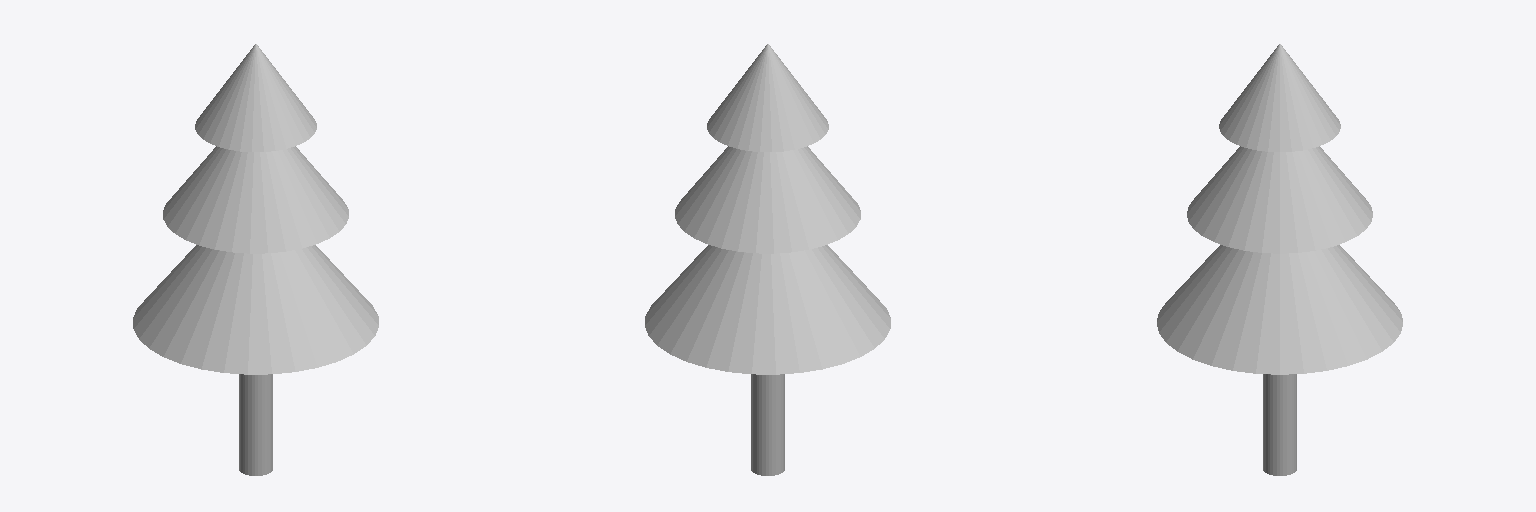
The model's file is Tree.obj.
3 renders of one model, left to right at view 1: azimuth 30°, elevation 25°; view 2: azimuth 150°, elevation 25°; view 3: azimuth 270°, elevation 25°, orthographic.
Parts seen in each view (by area): view 1: Cylinder; view 2: Cylinder; view 3: Cylinder.
Part boxes in pixels (x1,y1,x2,y2): Cylinder: (133,44,378,475); Cylinder: (645,44,890,475); Cylinder: (1157,44,1402,475).
Bounding box in the file's own units: 3.15 × 5.99 × 3.15.